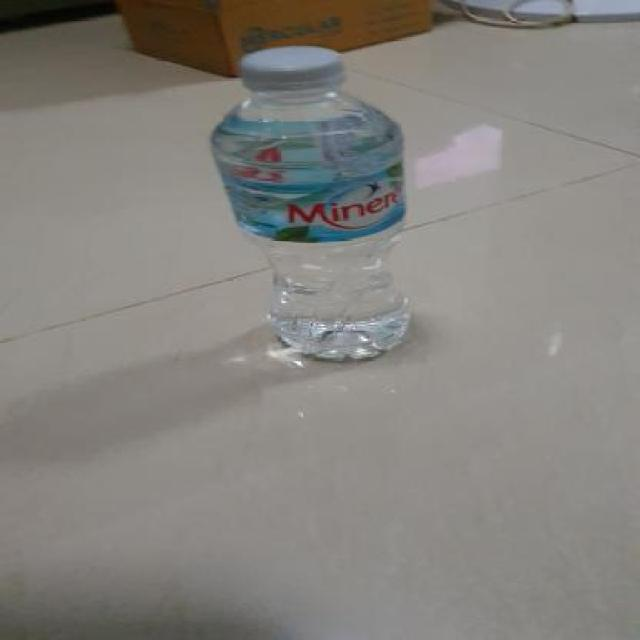bottle: (223, 49, 417, 382)
